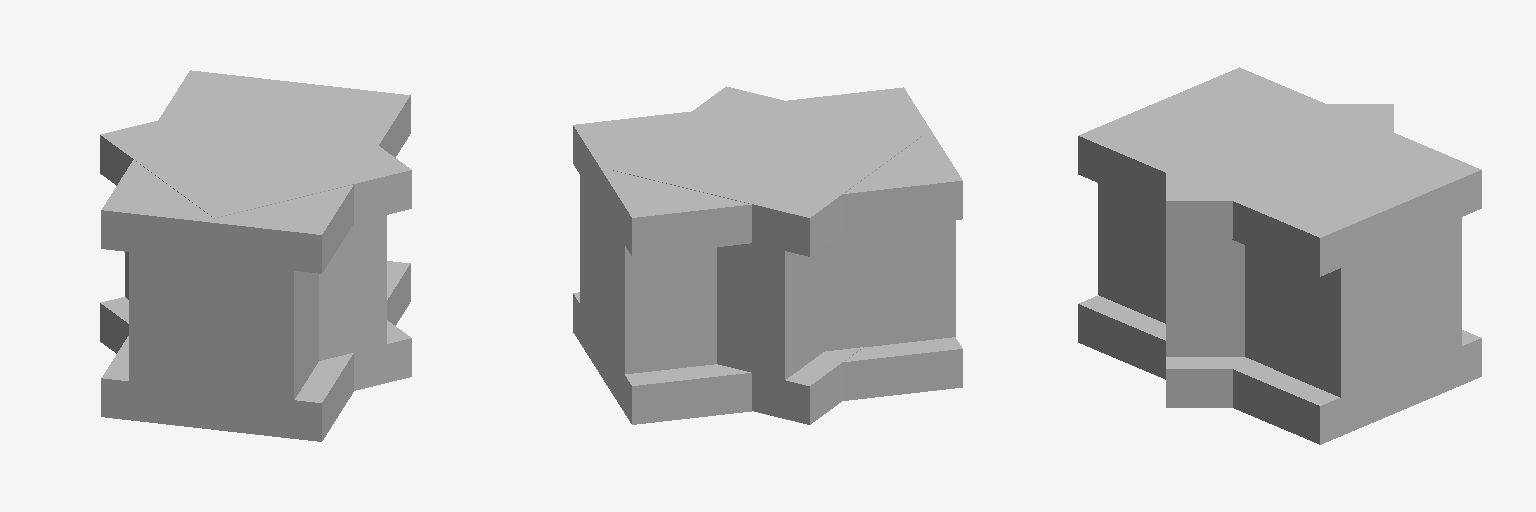
File: cross_d2_zo.obj
3 renders of one model, left to right at view 1: azimuth 30°, elevation 25°; view 2: azimuth 150°, elevation 25°; view 3: azimuth 270°, elevation 25°, orthographic.
Parts seen in each view (by area): view 1: real_middle, diag; view 2: real_middle, diag; view 3: real_middle, diag.
Boxes of the visible parts, x1=… form: real_middle: x1=101, y1=70, x2=410, y2=441; diag: x1=100, y1=86, x2=411, y2=390; real_middle: x1=573, y1=87, x2=962, y2=424; diag: x1=613, y1=86, x2=922, y2=424; real_middle: x1=1078, y1=67, x2=1481, y2=444; diag: x1=1166, y1=104, x2=1393, y2=407.
Bounding box in the file's own units: 1.77 × 1 × 1.77.